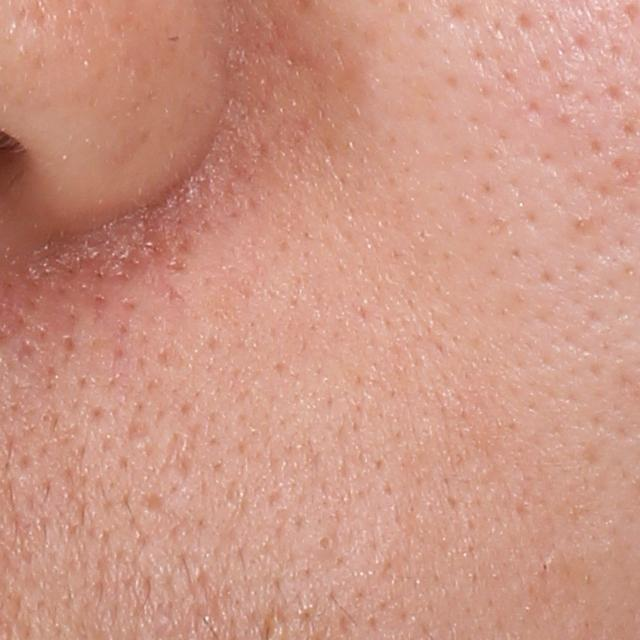comedo: (311, 528, 339, 559)
